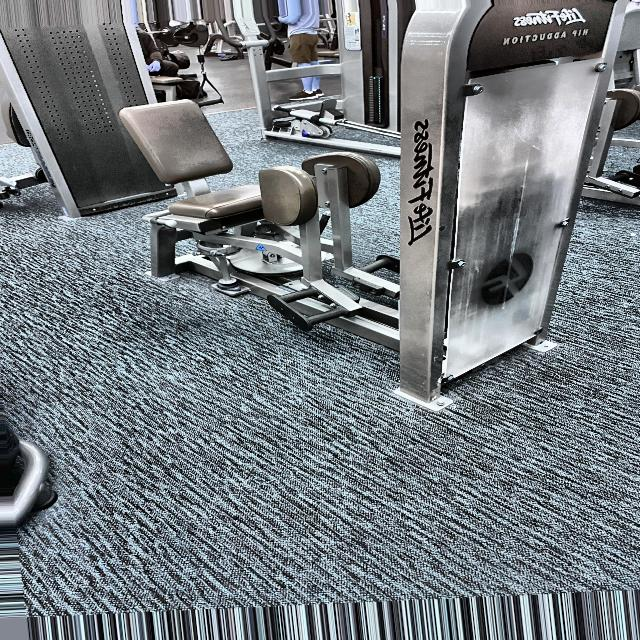hip_adduction_machine: (102, 88, 408, 355), (500, 22, 594, 60)
